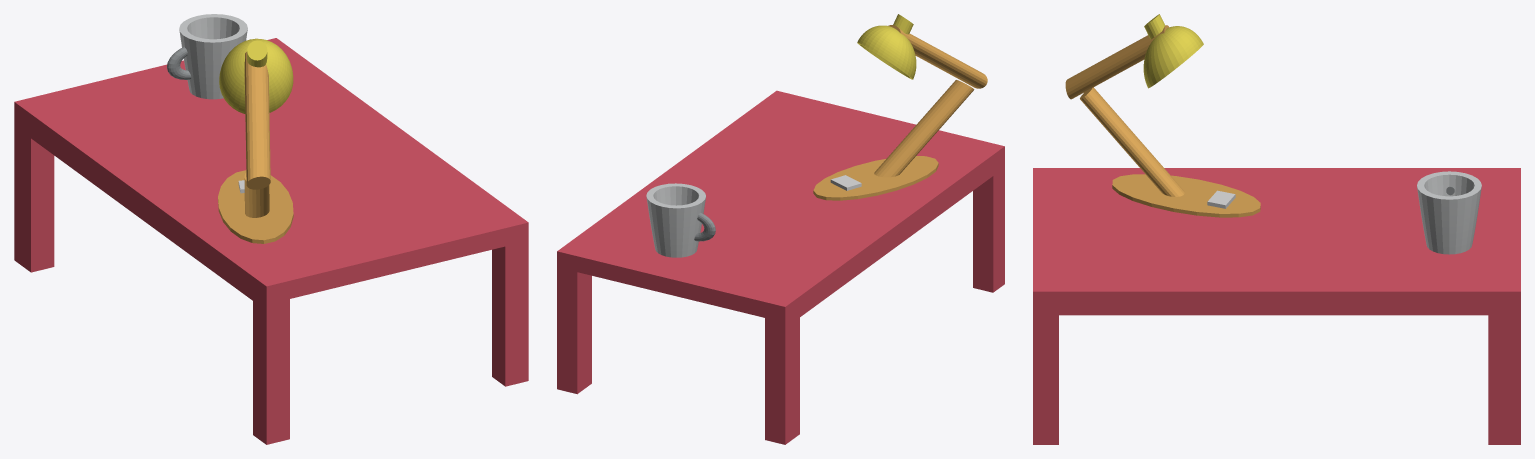
The model's file is Class 149.glb.
3 views of the same model, side by side, from view 1: azimuth 30°, elevation 25°; view 2: azimuth 150°, elevation 25°; view 3: azimuth 270°, elevation 25° (orthographic). The views are drawn at different scales.
Parts seen in each view (by area): view 1: Mesh_Mesh_head_geo.001_lambert2SG.001; view 2: Mesh_Mesh_head_geo.001_lambert2SG.001; view 3: Mesh_Mesh_head_geo.001_lambert2SG.001.
Part boxes in pixels (bbox=[...]): Mesh_Mesh_head_geo.001_lambert2SG.001: bbox=[14, 14, 528, 444]; Mesh_Mesh_head_geo.001_lambert2SG.001: bbox=[557, 14, 1004, 444]; Mesh_Mesh_head_geo.001_lambert2SG.001: bbox=[1033, 14, 1520, 444].
Size of the model in its own units: 45 by 56.33 by 75.
